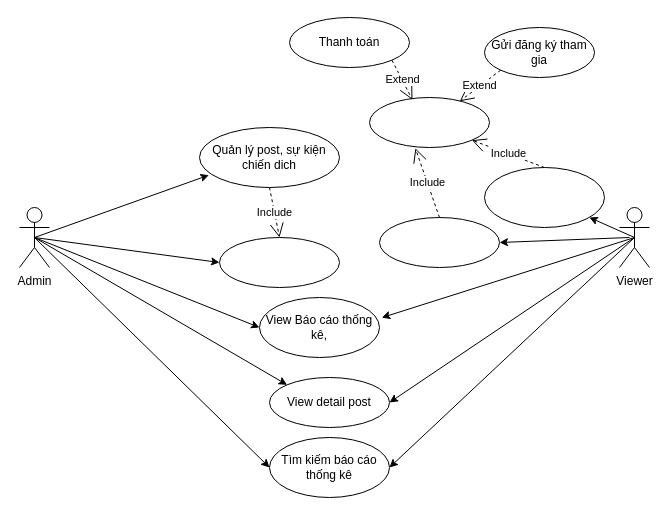
This 669x515 diagram has some shape labels left out. The shapes that lost their labels are listed below. From the top down, each one's centre as x and y in pixels, then its label:
At (x=429, y=122): "Điền thông tin cá nhân".
At (x=544, y=197): "Donate ủng hộ chiến dịch, sự kiện".
At (x=279, y=262): "Đăng nhập".
At (x=439, y=242): "Đăng ký tham gia sự kiện, chiến dich".
